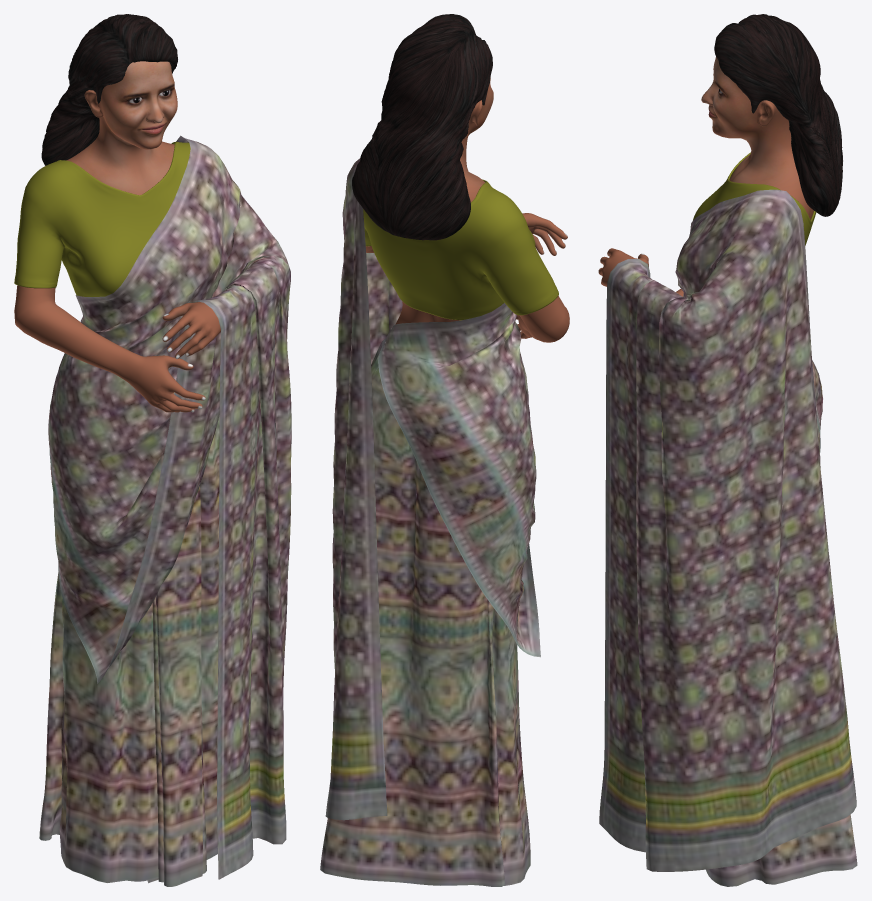
The model's file is Girl_1.gltf.
3 renders of one model, left to right at view 1: azimuth 30°, elevation 25°; view 2: azimuth 150°, elevation 25°; view 3: azimuth 270°, elevation 25°, orthographic. The views are drawn at different scales.
Parts seen in each view (by area): view 1: saree1, body, blouse, hair; view 2: saree1, hair, blouse, body; view 3: saree1, hair, body, blouse.
Part boxes in pixels (x1,y1,x2,y2): saree1: (39,135,291,886); body: (14,61,220,412); blouse: (14,141,190,296); hair: (41,14,177,165); saree1: (320,158,540,886); hair: (352,14,492,240); blouse: (363,179,558,320); body: (365,77,569,342); saree1: (599,189,857,886); hair: (714,14,842,216); body: (598,57,813,296); blouse: (693,152,816,245).
Bounding box in the file's own units: 0.5489 × 1.81 × 0.5084.
Materials: 5 (5 with a texture image).
